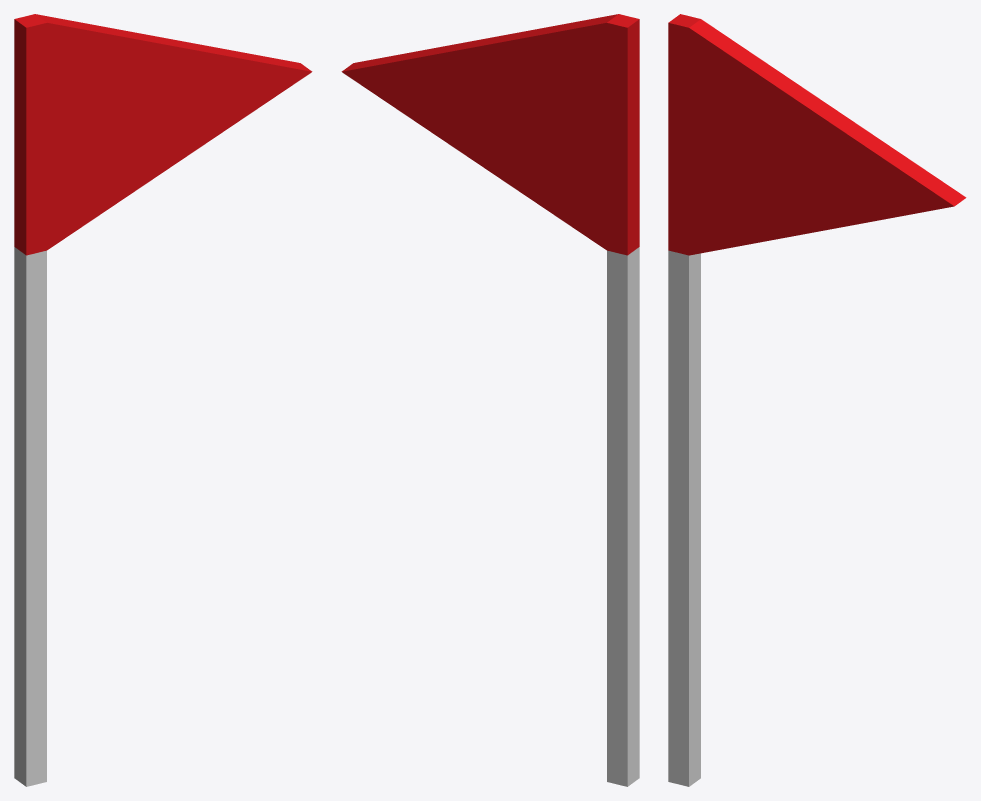
Rendered from Flag.fbx.
The picture shows the model from 3 angles, left to right: view 1: azimuth 30°, elevation 25°; view 2: azimuth 150°, elevation 25°; view 3: azimuth 330°, elevation 25°; orthographic projection.
Parts seen in each view (by area): view 1: Cube; view 2: Cube; view 3: Cube.
Part boxes in pixels (x1,y1,x2,y2): Cube: [14, 14, 312, 786]; Cube: [341, 14, 639, 786]; Cube: [668, 14, 966, 786].
Size of the model in its own units: 237 by 600 by 17.16.
